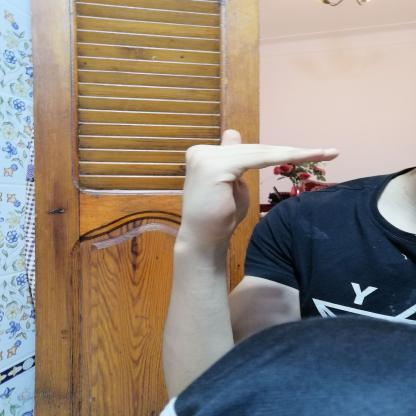KHAA: (170, 124, 348, 244)
